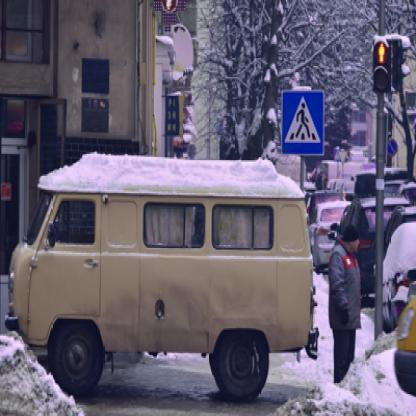crosswalk: (278, 86, 324, 157)
trafficlight: (372, 36, 390, 91), (393, 32, 409, 90)
